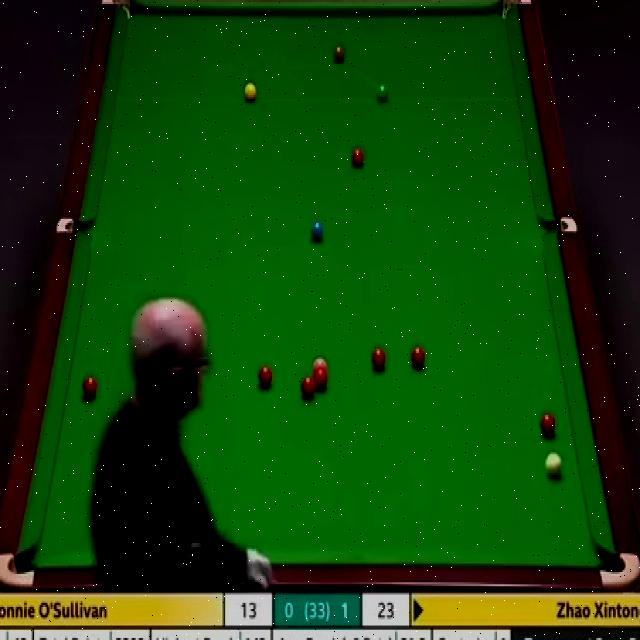blue-ball: (309, 220, 324, 241)
brown-ball: (333, 45, 344, 63)
green-ball: (375, 81, 389, 103)
pink-ball: (312, 356, 329, 374)
red-ball: (410, 344, 426, 368), (540, 411, 556, 435), (82, 373, 98, 396), (372, 346, 387, 370), (257, 366, 273, 388), (301, 377, 316, 400), (350, 147, 366, 168), (312, 372, 327, 388)
white-ball: (545, 451, 563, 476)
yellow-ball: (243, 81, 257, 101)
